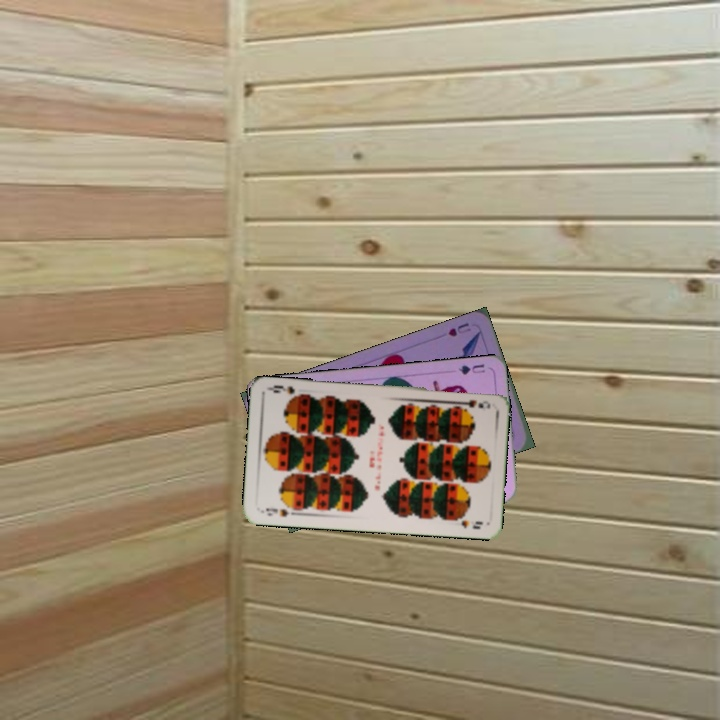GU: (455, 360, 487, 377)
HU: (444, 318, 473, 339)
S9: (257, 504, 298, 519), (453, 396, 486, 412)
